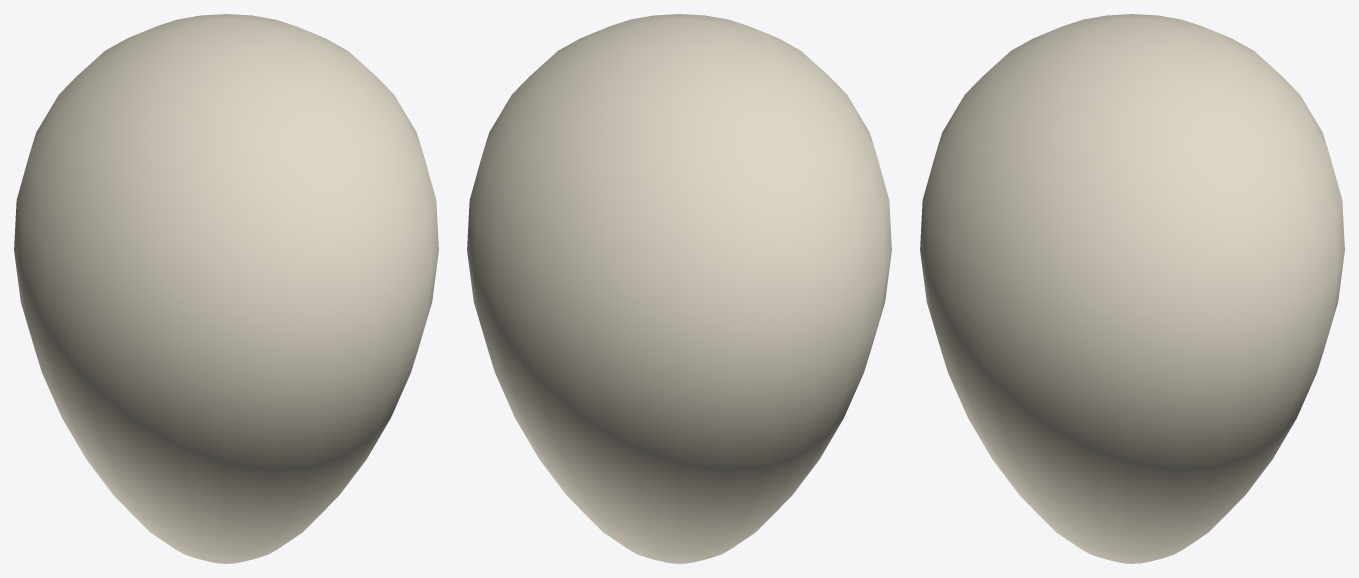
File: egg.glb
3 views of the same model, side by side, from view 1: azimuth 30°, elevation 25°; view 2: azimuth 150°, elevation 25°; view 3: azimuth 270°, elevation 25° (orthographic).
Parts seen in each view (by area): view 1: Egg; view 2: Egg; view 3: Egg.
Part boxes in pixels (left/top/right/bottom): Egg: left=14, top=14, right=438, bottom=563; Egg: left=467, top=14, right=891, bottom=563; Egg: left=920, top=14, right=1344, bottom=563.
Size of the model in its own units: 1.14 by 1.54 by 1.14.
